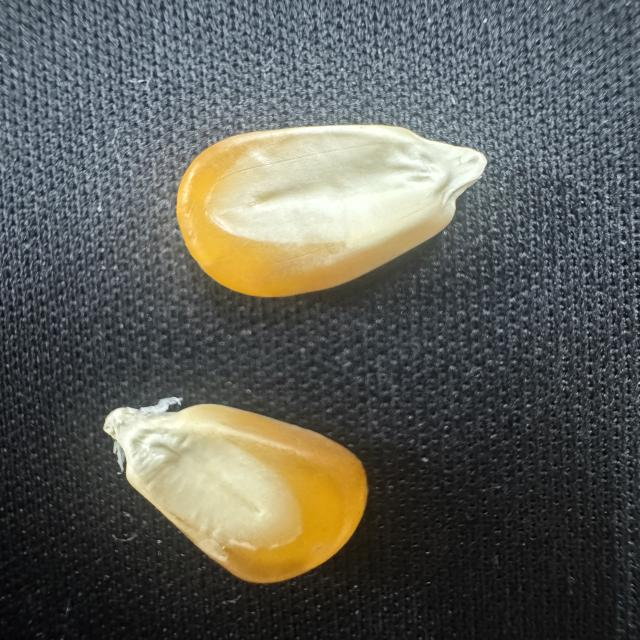Good-Seed: (170, 120, 490, 302), (100, 399, 375, 586)
